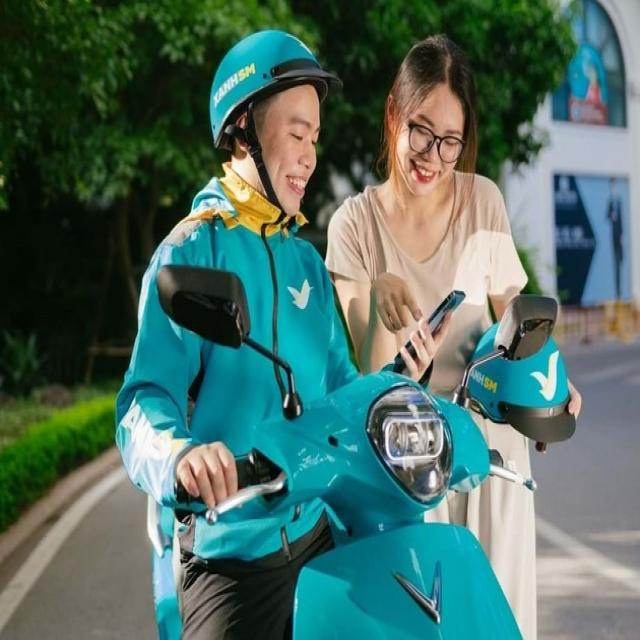1-2-helmet: (210, 30, 343, 149)
Face and Hair: (375, 22, 479, 206)
